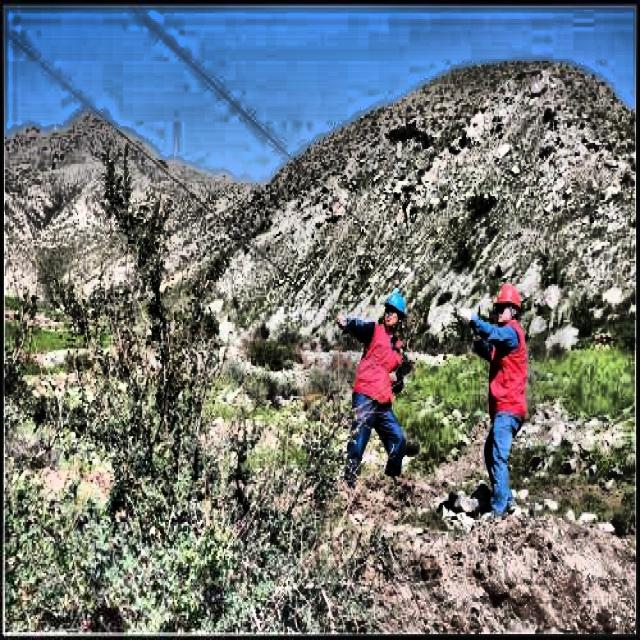helmet: (493, 276, 526, 328), (382, 286, 408, 333)
